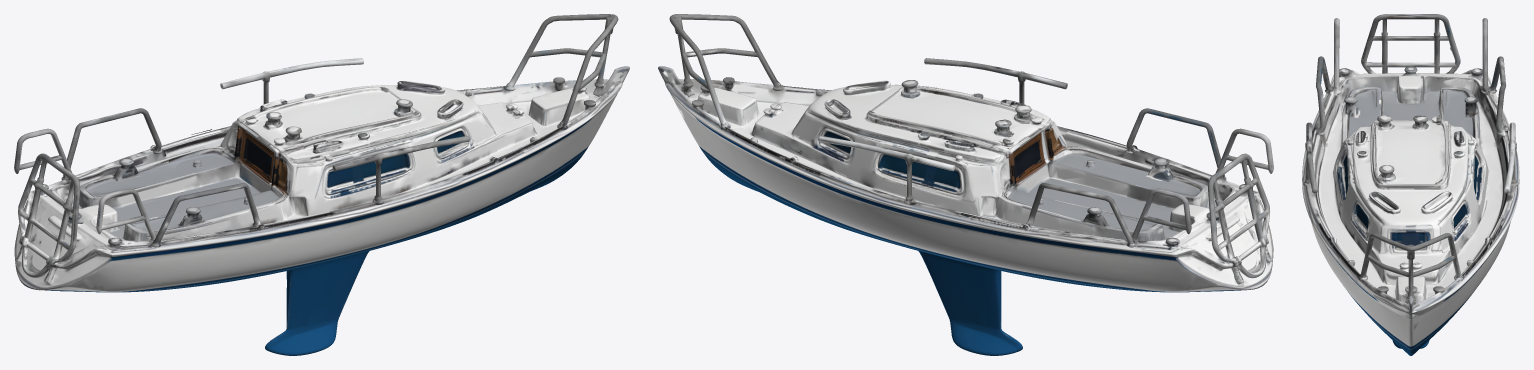
The model's file is boat_body.glb.
The picture shows the model from 3 angles, left to right: view 1: azimuth 30°, elevation 25°; view 2: azimuth 150°, elevation 25°; view 3: azimuth 270°, elevation 25°; orthographic projection. The views are drawn at different scales.
Visible parts, largest first — view 1: node_0; view 2: node_0; view 3: node_0.
Part boxes in pixels (<box>): node_0: <box>14,14,629,355</box>; node_0: <box>658,14,1273,355</box>; node_0: <box>1302,14,1519,355</box>.
Size of the model in its own units: 1.16 by 0.4682 by 0.3982.
1 material, 1 textured.
